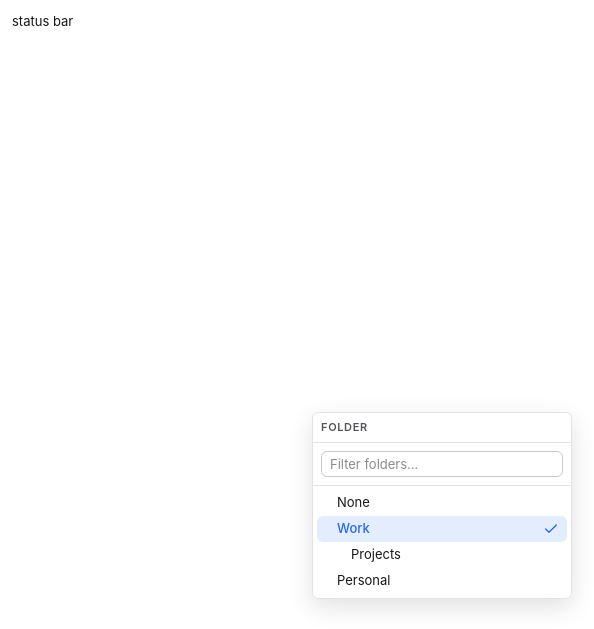
Scenario: FolderPicker › narrows options as you type, like the tag editor filter
In the field with test id "folder-picker-filter": (442,464) [321,450,563,476], type "proj"
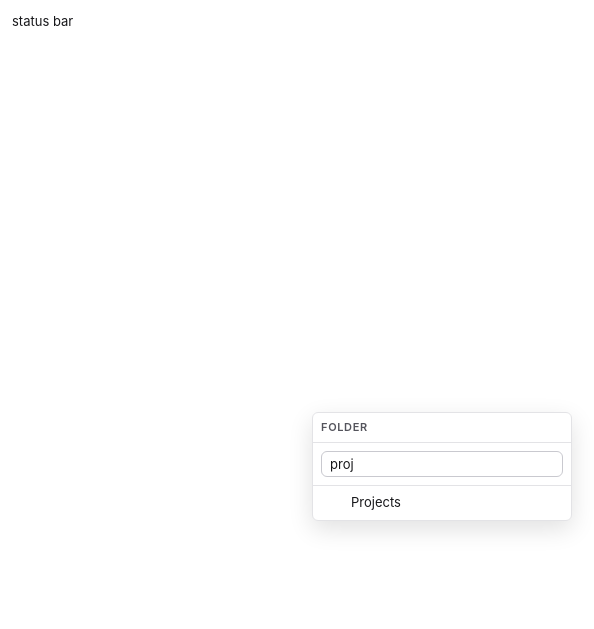
Expected: the text "Projects" is shown, [351,494,401,510]
Expected: the number of options is 1, [351,494,401,510]
